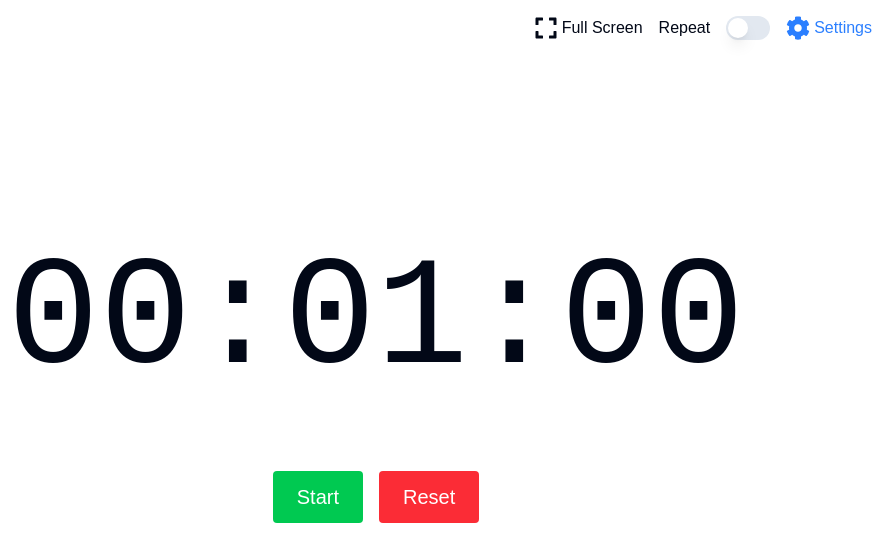
Test: Page start, pause, and reset controls update the visible state
The width and height of the screenshot is (888, 540).
Click the button "Start" at (318, 497), box [273,471,363,523]
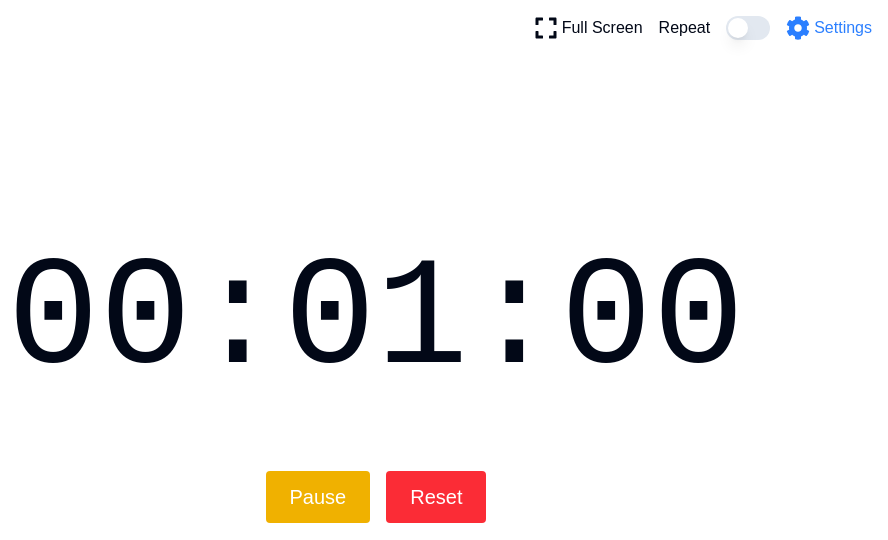
Expected: the button "Pause" is shown
Click the button "Pause" at (318, 497), box [266,471,370,523]
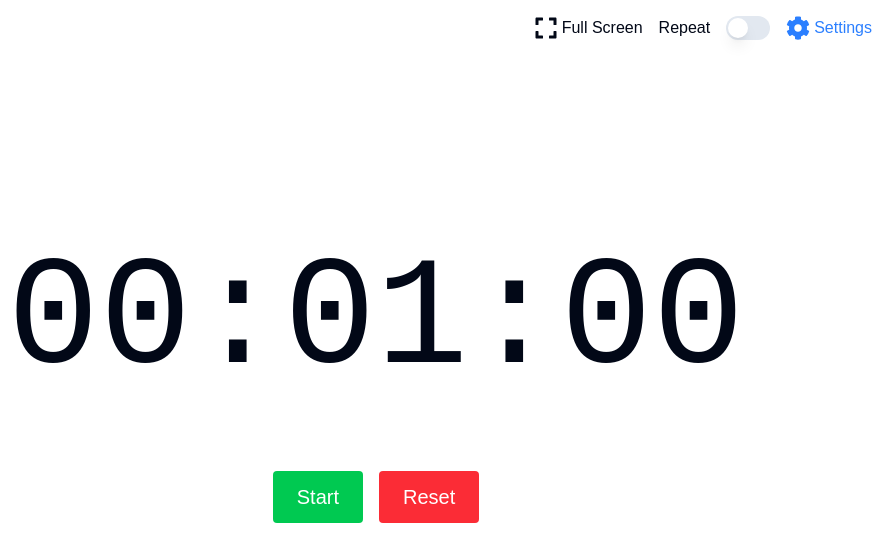
Expected: the button "Start" is shown
Click the button "Start" at (318, 497), box [273,471,363,523]
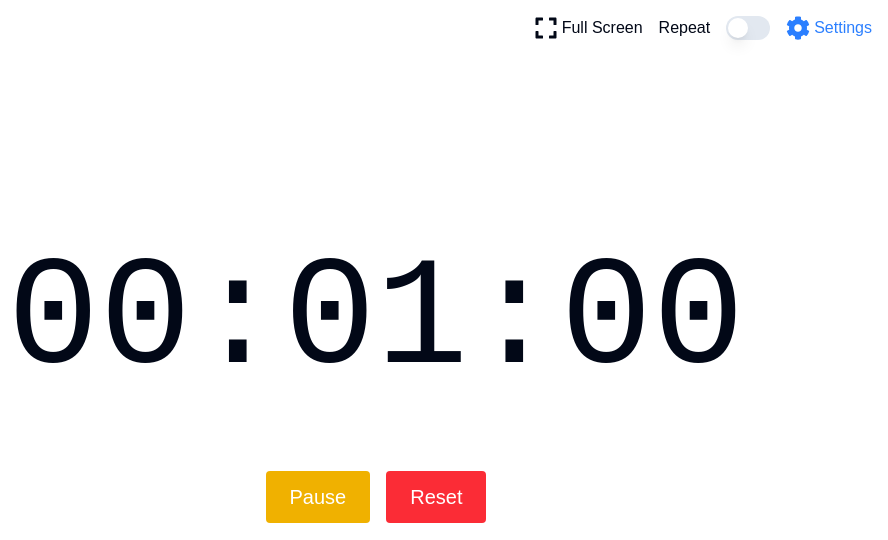
Click the button "Reset" at (436, 497), box [386,471,486,523]
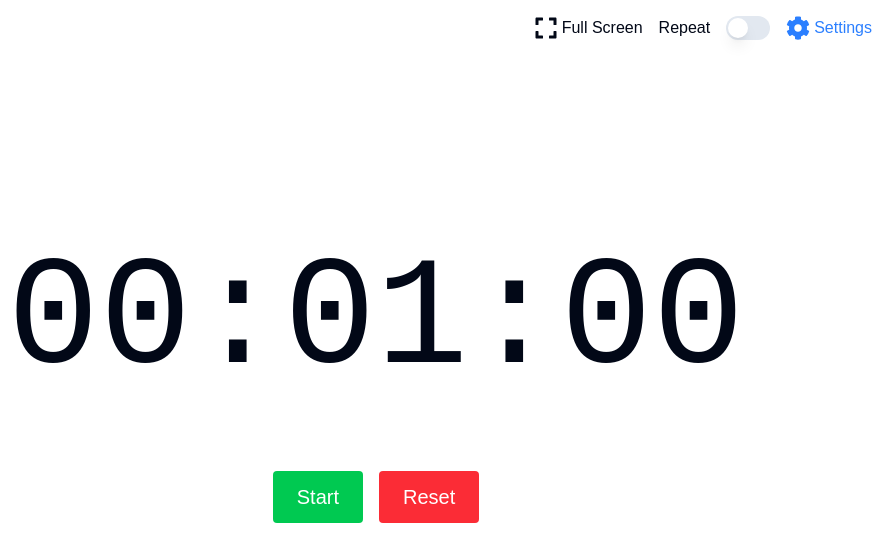
Expected: the button "Start" is shown, [273,471,363,523]
